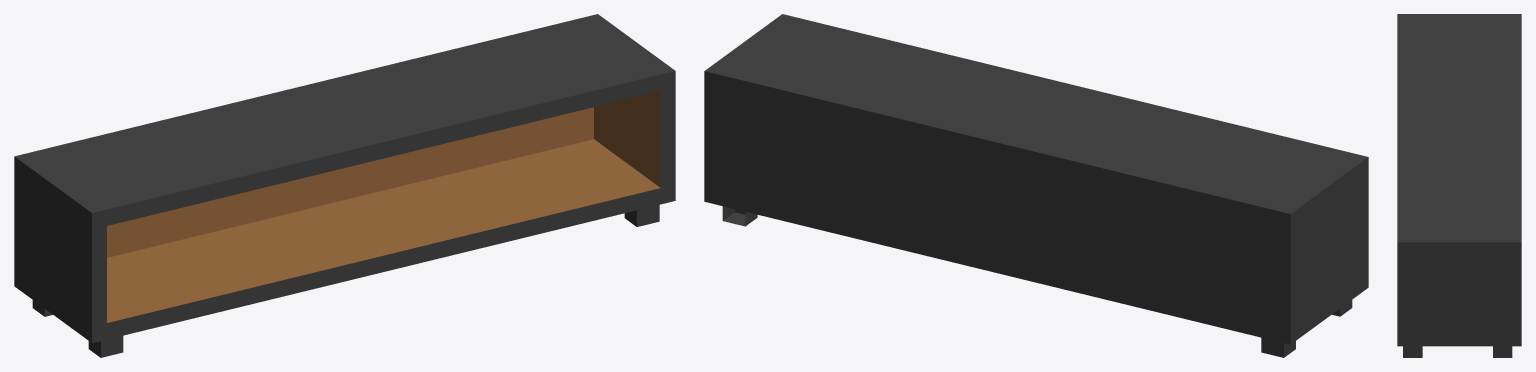
Rendered from TvTable.fbx.
3 renders of one model, left to right at view 1: azimuth 30°, elevation 25°; view 2: azimuth 150°, elevation 25°; view 3: azimuth 270°, elevation 25°, orthographic. The views are drawn at different scales.
Parts seen in each view (by area): view 1: TvTable; view 2: TvTable; view 3: TvTable.
Boxes of the visible parts, x1,y1,x2,y2 form: TvTable: [14, 14, 675, 357]; TvTable: [704, 14, 1368, 357]; TvTable: [1397, 14, 1521, 357].
Bounding box in the file's own units: 175 × 43.01 × 40.25.
